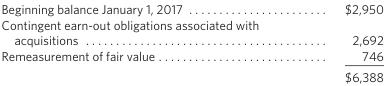table: (0, 1, 382, 83)
table column: (0, 1, 301, 83), (301, 1, 382, 83)
table row: (0, 16, 382, 47), (0, 47, 382, 65), (0, 65, 382, 83), (0, 1, 382, 16)
